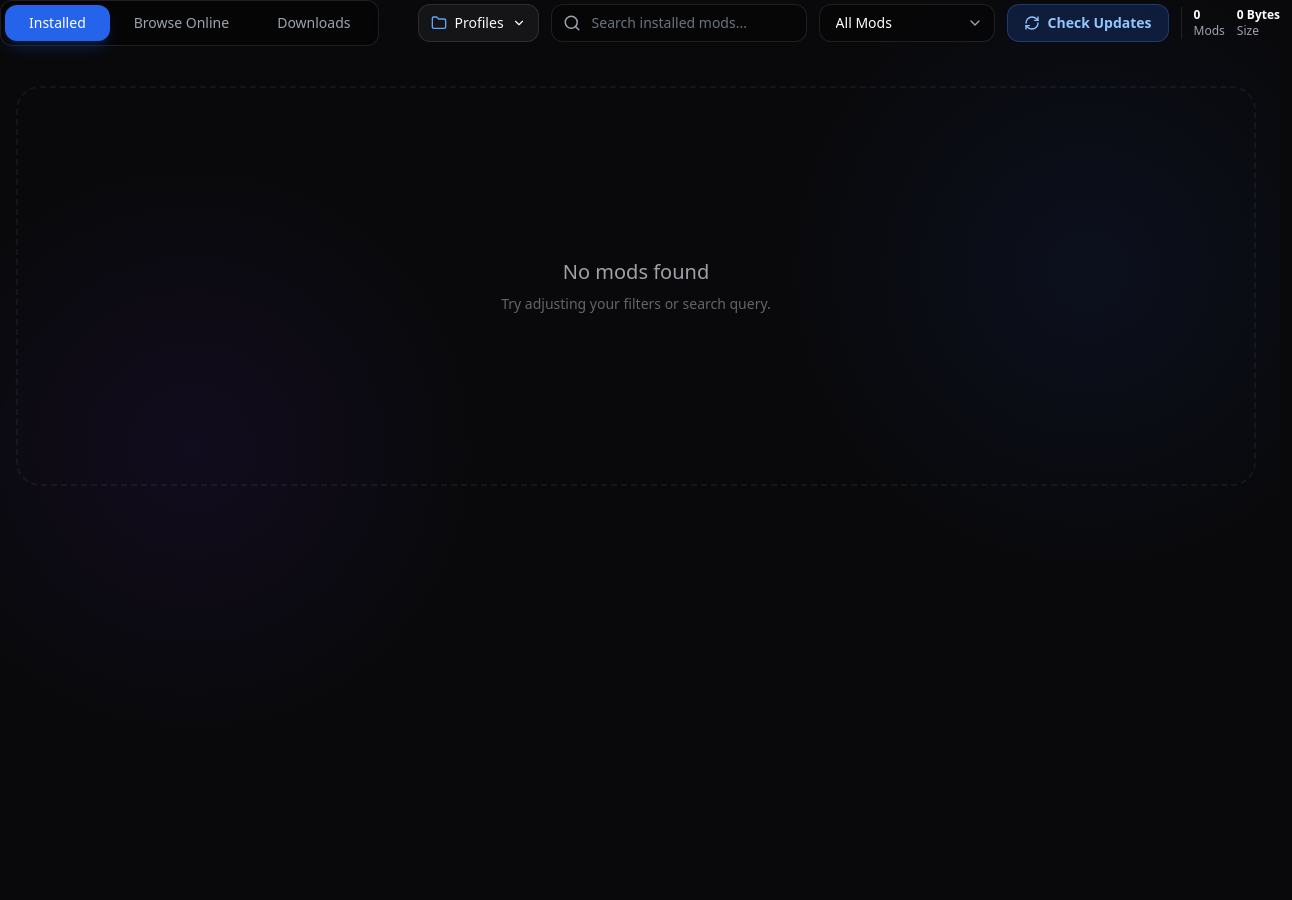
Scenario: Frontend Final Gaps › Mods Page Error Handling › should handle installOnlineMod failure
Note: Switch to Browse
Click the button "Browse Online".
click(182, 23)  # box x1=110 y1=5 x2=253 y2=41
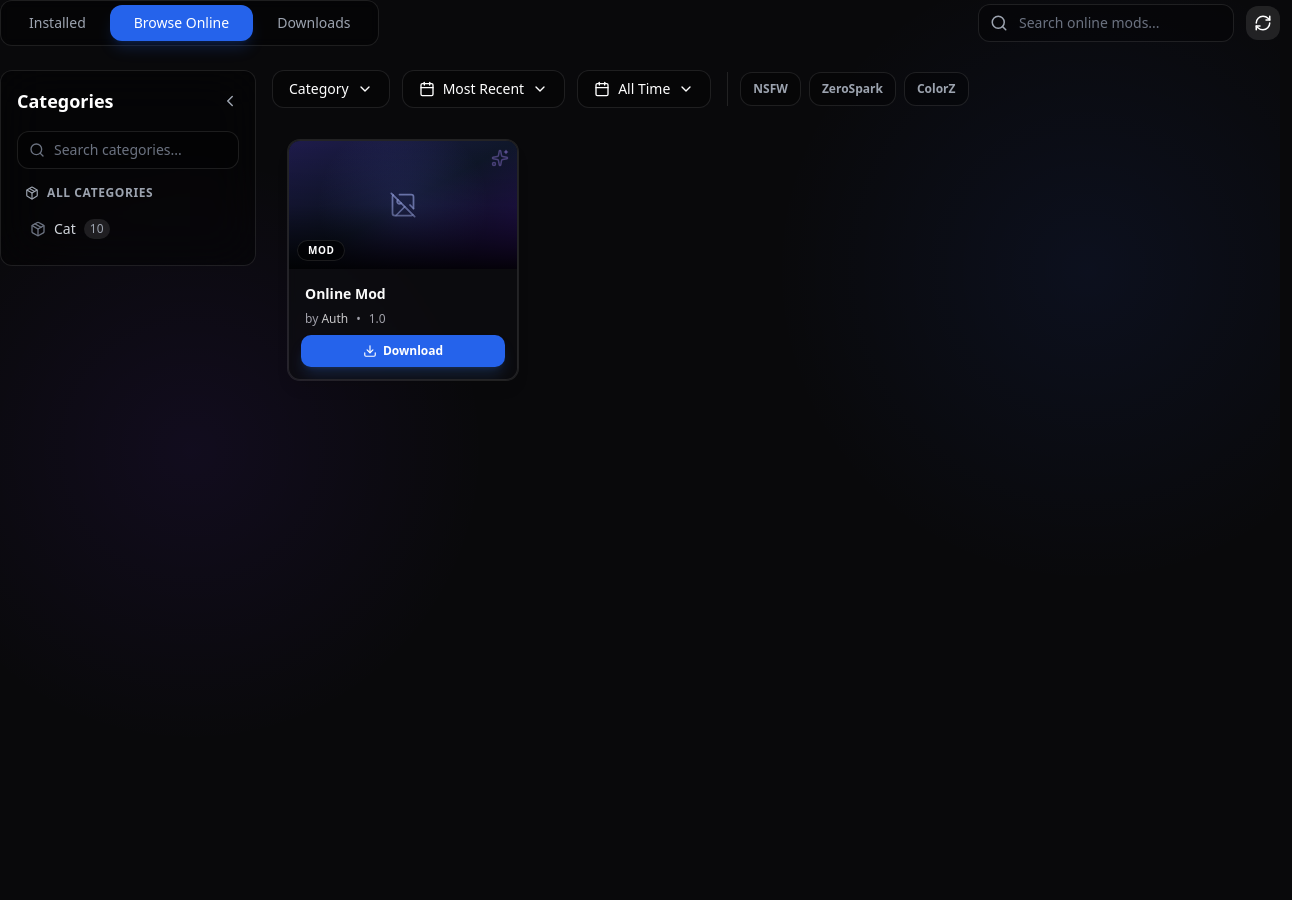
Note: Click Install on card
Click the button "Download".
click(403, 351)  # box x1=301 y1=335 x2=505 y2=367
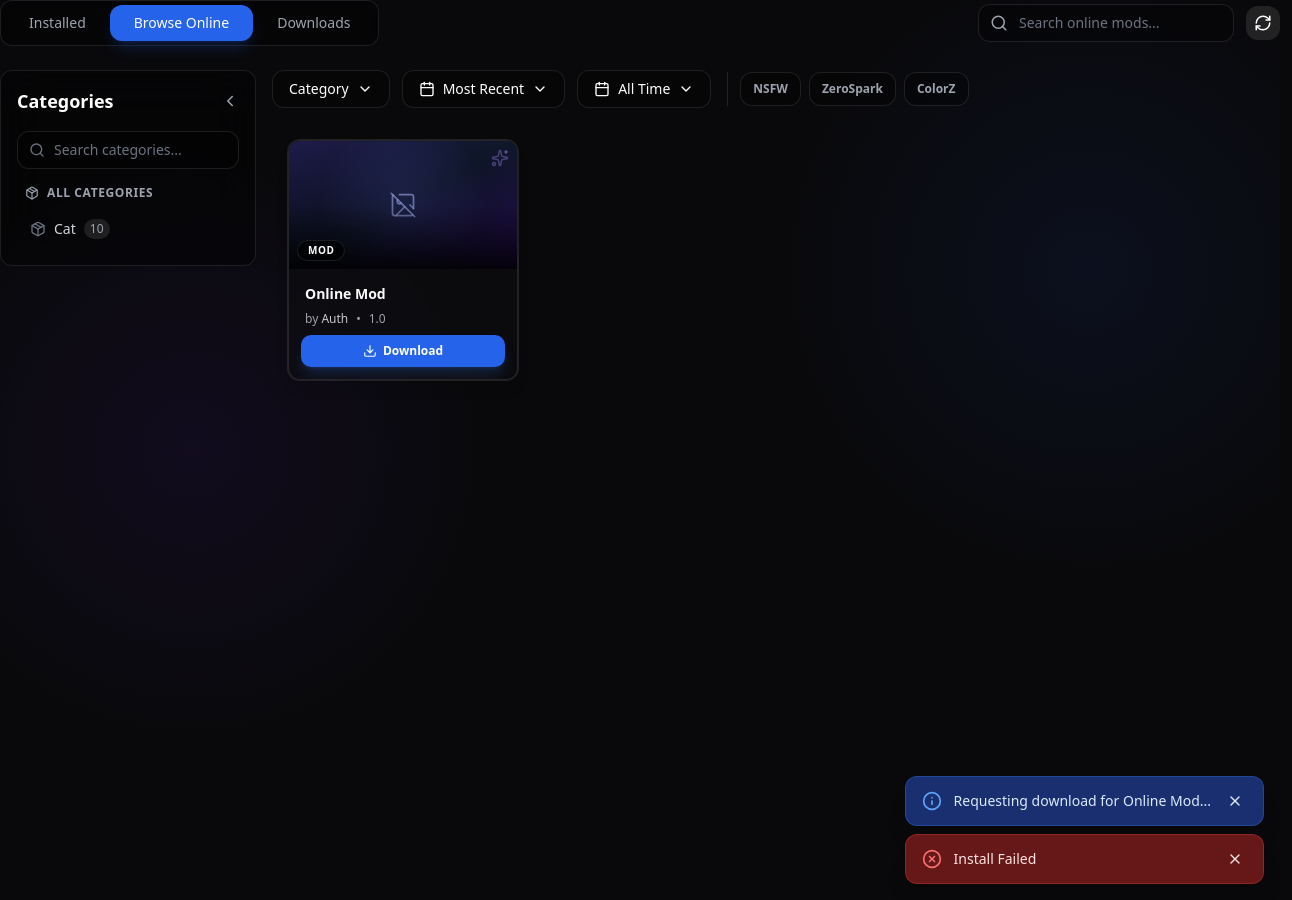
Result: the text "Install Failed" is shown at x1=954 y1=849 x2=1036 y2=868
